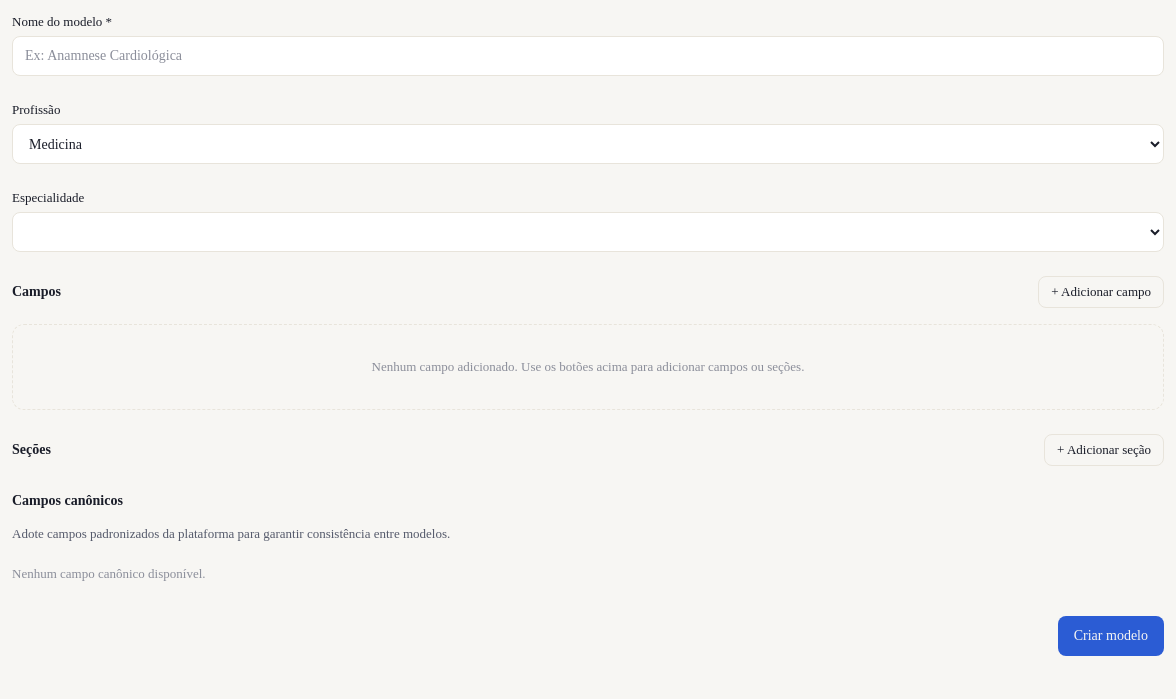
Test: TemplateForm (integration) › create mode › removes an option when remove button is clicked
Click the button with test id "template-form-add-field" at (1101, 292), box 1038,276 -> 1164,308
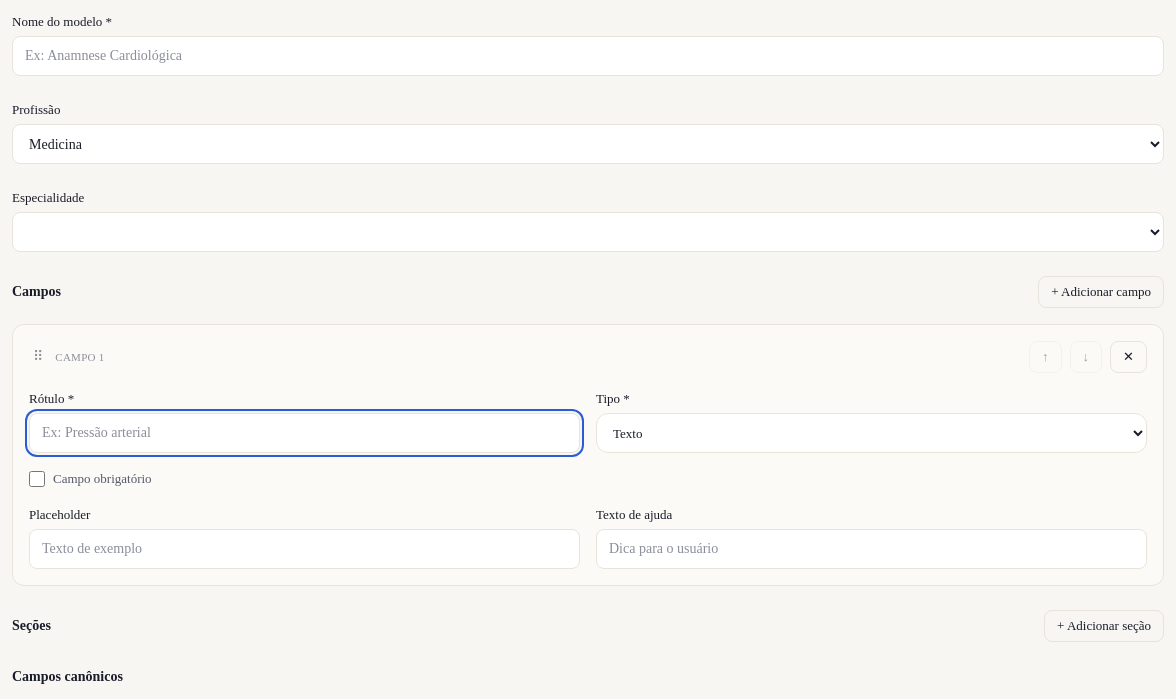
Select "Seleção única" in the dropdown with test id "field-editor-type-0" at (872, 433), box 596,413 -> 1147,453
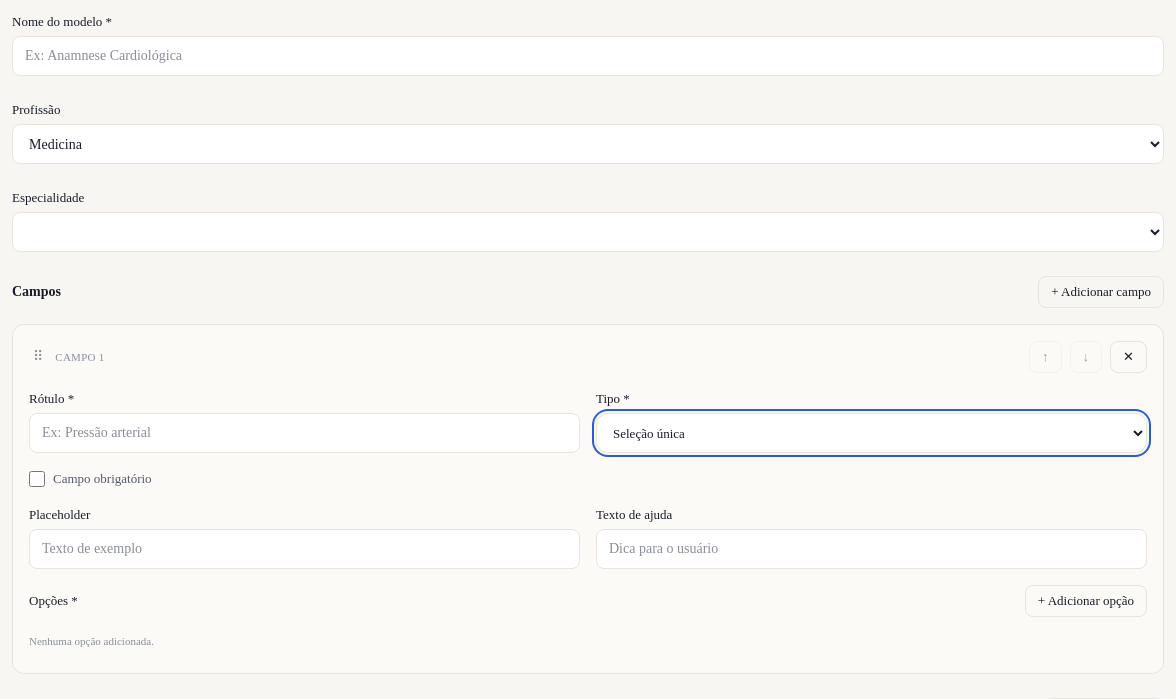
Result: the element with test id "field-editor-options-0" is shown at 29,585 -> 1147,657
Click the button with test id "field-editor-option-add-0" at (1086, 601), box 1025,585 -> 1147,617
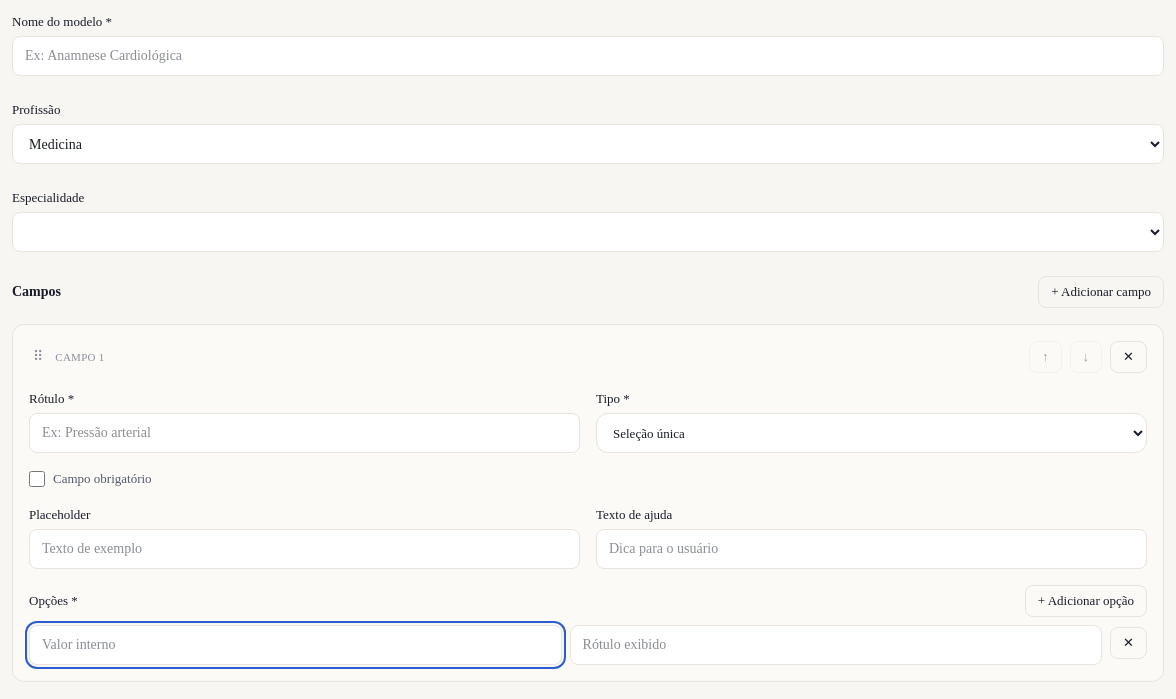
Result: the field with test id "field-editor-option-value-0-0" is shown at 29,625 -> 562,665
Click the button with test id "field-editor-option-remove-0-0" at (1129, 643), box 1110,627 -> 1147,659
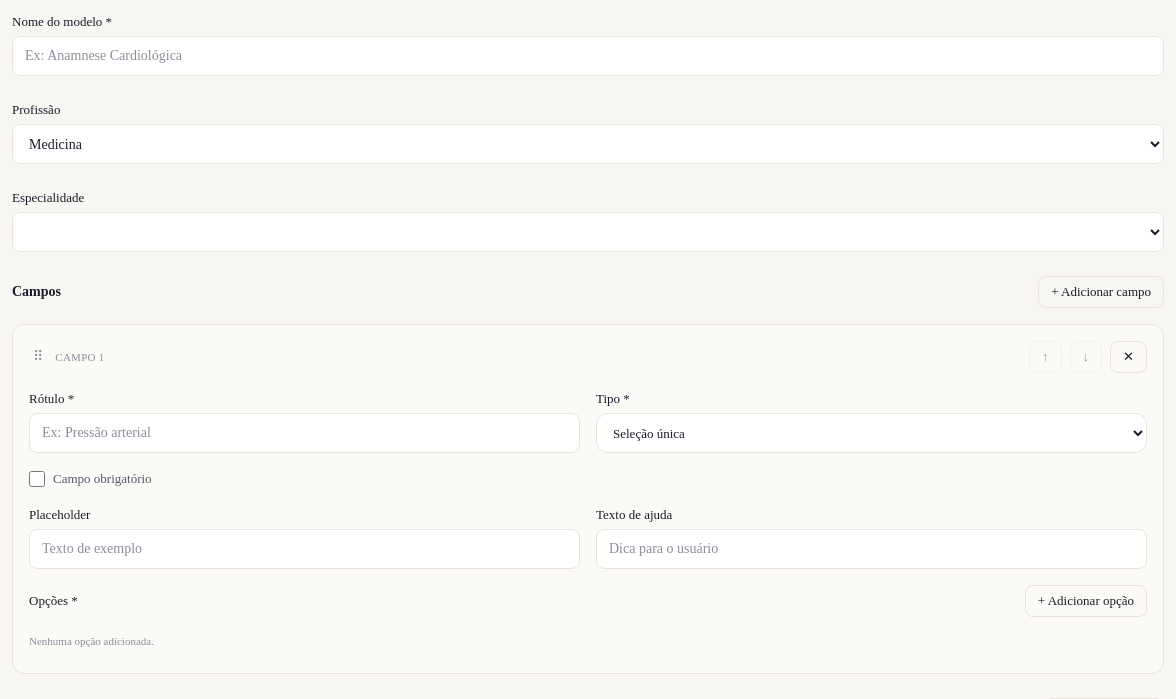
Result: the field with test id "field-editor-option-value-0-0" is gone
